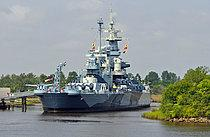MIL_Ship: (37, 14, 152, 113)
